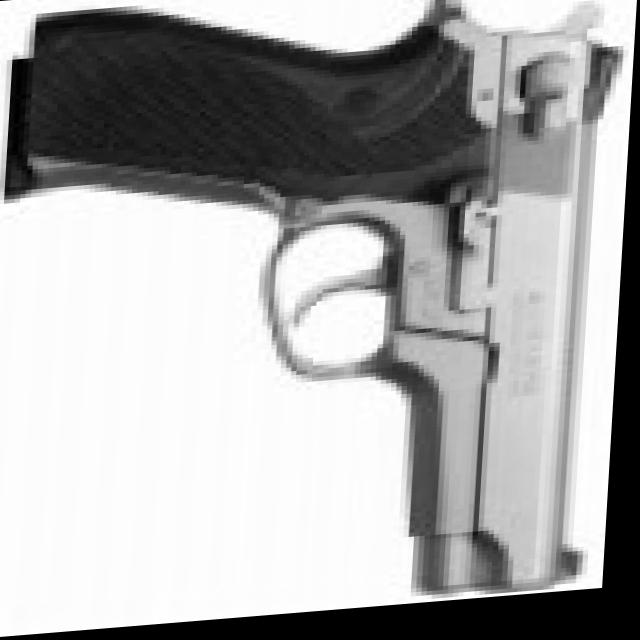handgun: (0, 0, 634, 626)
